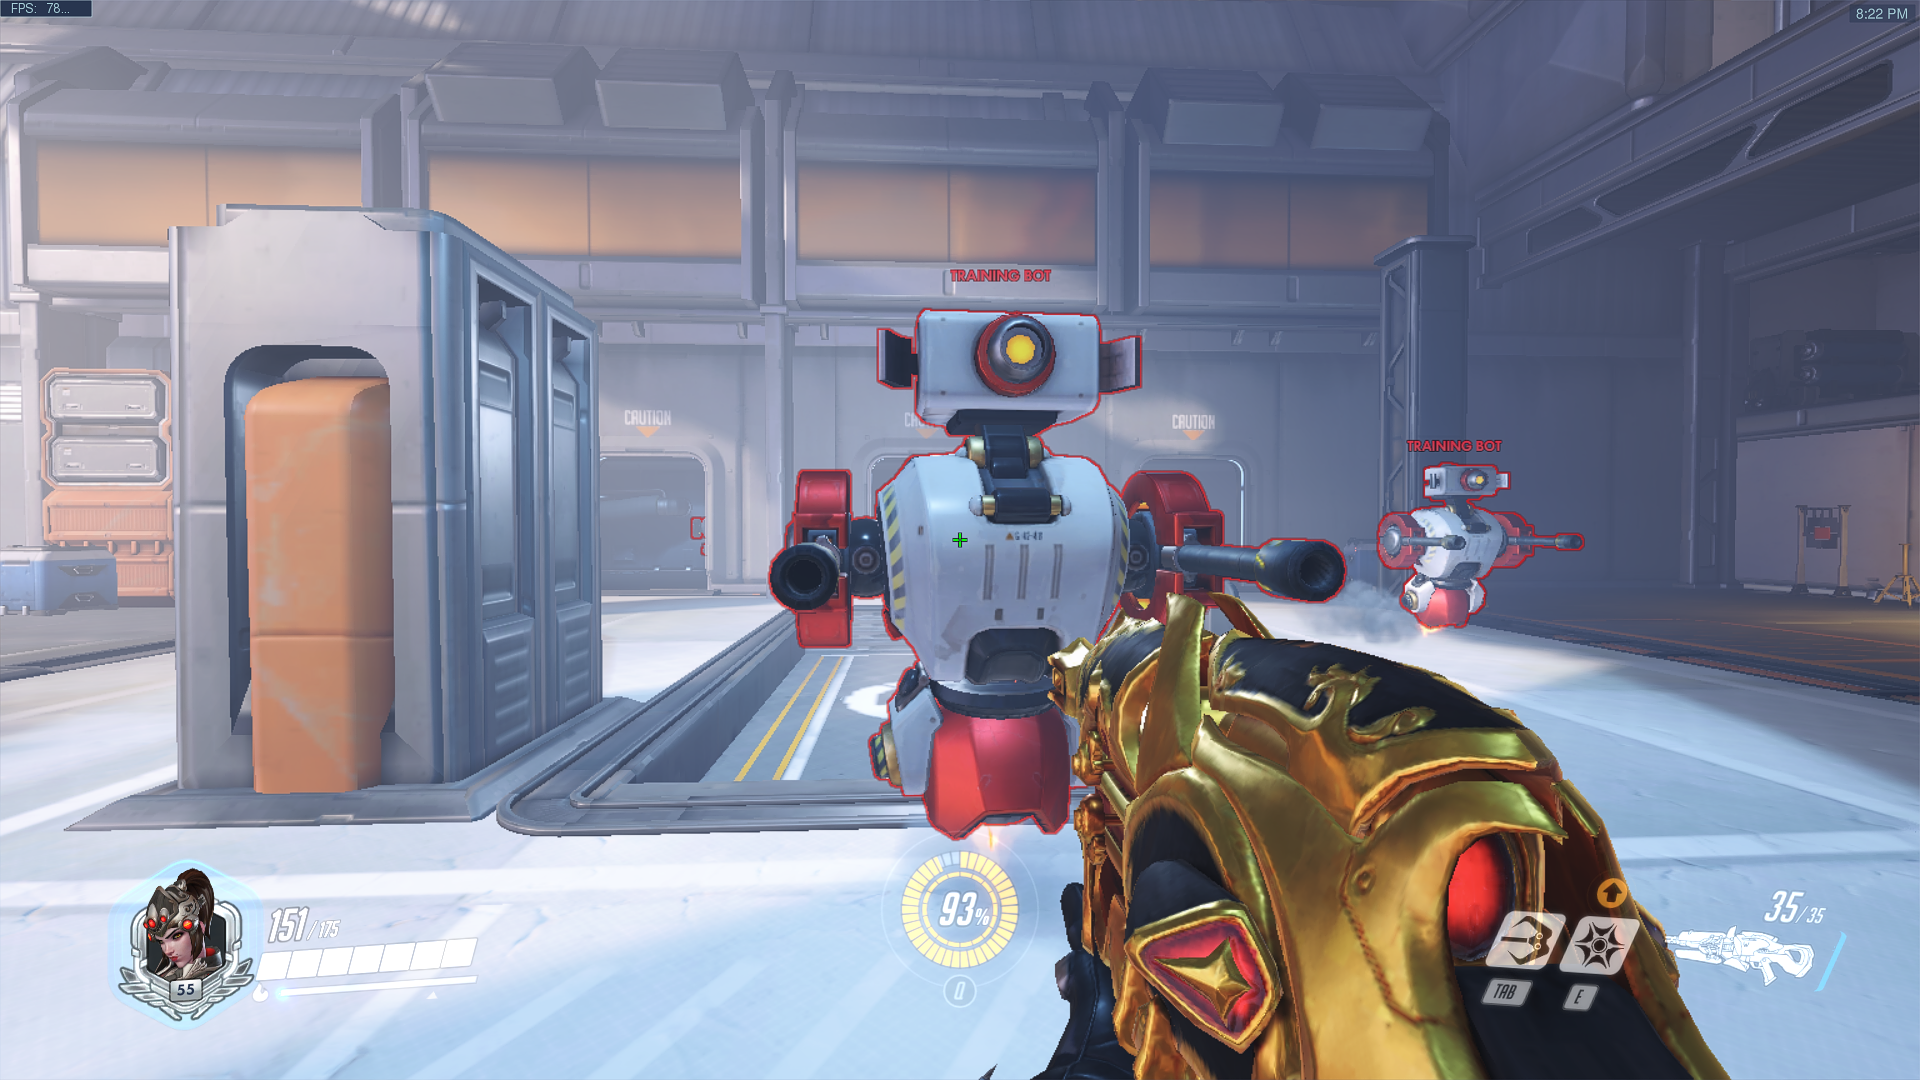head: (922, 306, 1097, 420), (1433, 466, 1498, 497)
